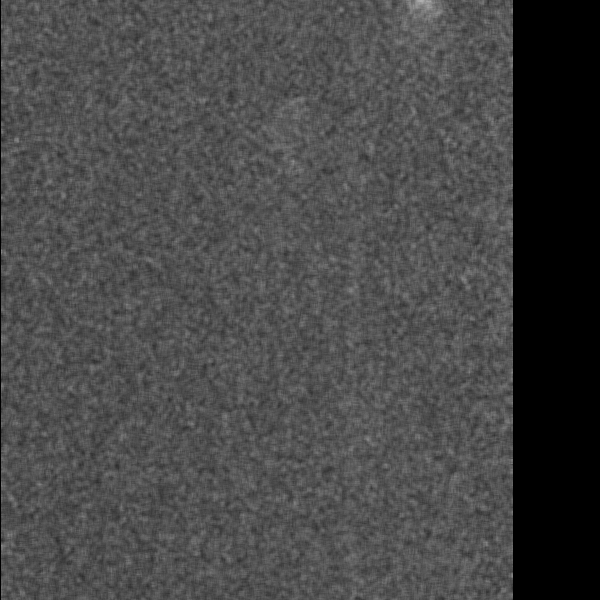spark: (456, 466, 487, 506), (150, 499, 170, 529), (1, 124, 10, 162)
